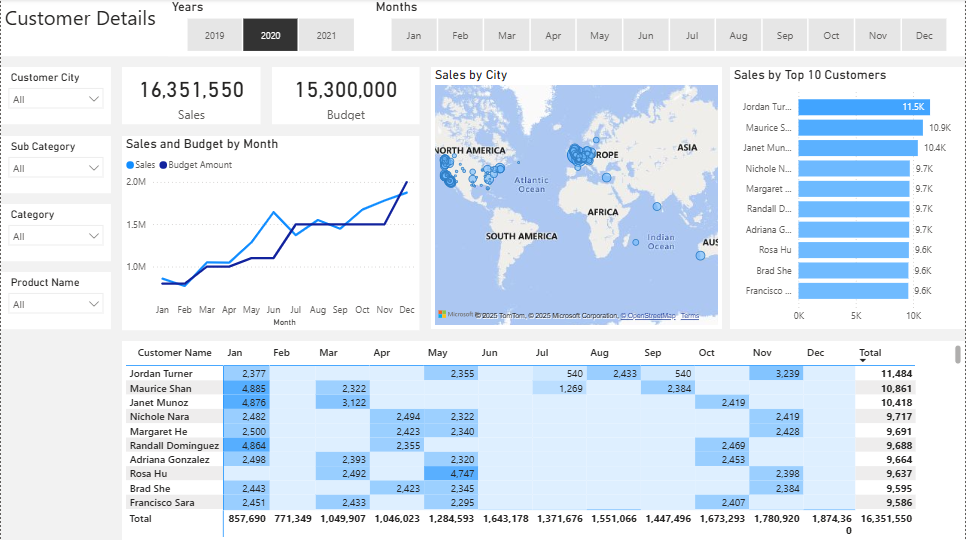

Layout of this report page (visuals, bound fields, positions):
{"tool":"powerbi","page":{"name":"Customer Details","canvas":[1280,720],"ordinal":1},"visuals":[{"type":"textbox","box":[0,0,1280.5,76.1],"z":0},{"type":"slicer","fields":{"Values":["DIM_Customers.Customer City"]},"box":[0,90.7,146.3,76.1],"z":1000},{"type":"slicer","fields":{"Values":["DIM_Products.Sub Category"]},"box":[0,181.5,146.3,76.1],"z":2000},{"type":"slicer","fields":{"Values":["DIM_Products.Product Category"]},"box":[0,272.2,146.3,76.1],"z":3000},{"type":"slicer","title":"Years","fields":{"Values":["DIM_Calendar.Year"]},"box":[222.4,0,270.7,76.1],"z":4000},{"type":"slicer","title":"Months","fields":{"Values":["DIM_Calendar.MonthShort"]},"box":[493.2,0,787.3,76.1],"z":5000},{"type":"barChart","title":"Sales by Top 10 Customers","fields":{"Y":["_Measures.Sales"],"Category":["DIM_Customers.Full Name"]},"box":[968.8,90.7,311.7,348.3],"z":6000},{"type":"pivotTable","fields":{"Rows":["DIM_Customers.Full Name"],"Values":["_Measures.Sales"],"Columns":["DIM_Calendar.MonthShort"]},"box":[161,453.7,1119.5,266.3],"z":7000},{"type":"slicer","fields":{"Values":["DIM_Products.Product Name"]},"box":[0,362.9,146.3,76.1],"z":8000},{"type":"card","fields":{"Values":["_Measures.Sales"]},"box":[161,90.7,184.4,76.1],"z":9000},{"type":"card","fields":{"Values":["_Measures.Budget Amount"]},"box":[360,90.7,196.1,76.1],"z":10000},{"type":"lineChart","title":"Sales and Budget by Month","fields":{"Y":["_Measures.Sales","_Measures.Budget Amount"],"Category":["DIM_Calendar.MonthShort"]},"box":[161,181.5,395.1,257.6],"z":11000},{"type":"map","title":"Sales by City","fields":{"Category":["DIM_Customers.Customer City"],"Size":["_Measures.Sales"]},"box":[570.7,90.7,386.3,348.3],"z":12000}]}

Visuals, with their boxes in screenshot pixels (x1, y1, x2, y2), scaled from the page's 1280x720 canvas onto the 966x540 screenshot:
textbox: rect(0, 0, 965, 57)
slicer - DIM_Customers.Customer City: rect(0, 68, 110, 125)
slicer - DIM_Products.Sub Category: rect(0, 136, 110, 193)
slicer - DIM_Products.Product Category: rect(0, 204, 110, 261)
"Years" slicer: rect(168, 0, 372, 57)
"Months" slicer: rect(372, 0, 965, 57)
"Sales by Top 10 Customers" barChart: rect(731, 68, 965, 329)
pivotTable - DIM_Customers.Full Name x _Measures.Sales: rect(122, 340, 965, 539)
slicer - DIM_Products.Product Name: rect(0, 272, 110, 329)
card - _Measures.Sales: rect(122, 68, 261, 125)
card - _Measures.Budget Amount: rect(272, 68, 420, 125)
"Sales and Budget by Month" lineChart: rect(122, 136, 420, 329)
"Sales by City" map: rect(431, 68, 722, 329)
